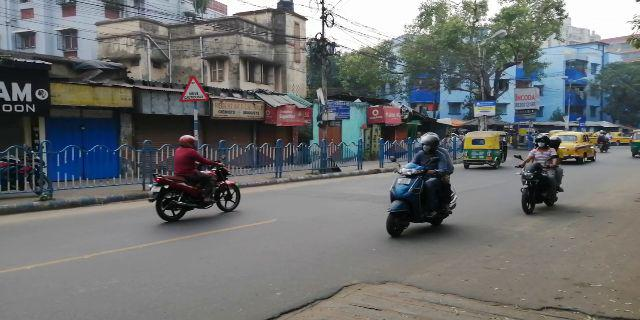Autorickshaw: (461, 134, 501, 168)
Motorbike: (386, 131, 455, 237), (151, 138, 238, 217), (514, 134, 570, 212)
